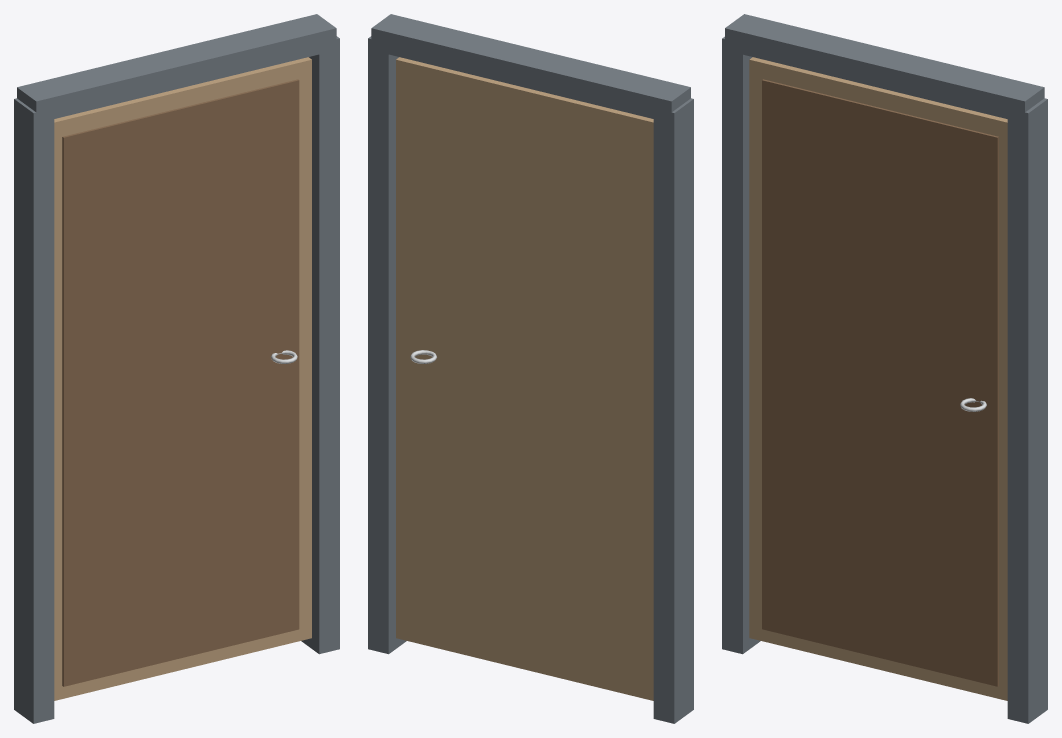
Rendered from door_restroom01.glb.
3 renders of one model, left to right at view 1: azimuth 30°, elevation 25°; view 2: azimuth 150°, elevation 25°; view 3: azimuth 330°, elevation 25°, orthographic.
Parts seen in each view (by area): view 1: leaf_trim, frame, leaf; view 2: leaf, frame; view 3: leaf_trim, frame, leaf.
Part boxes in pixels (<box>): leaf_trim: <box>62,79,299,686</box>; frame: <box>14,14,339,723</box>; leaf: <box>54,57,311,700</box>; leaf: <box>396,57,653,700</box>; frame: <box>368,14,693,723</box>; leaf_trim: <box>762,79,998,686</box>; frame: <box>722,14,1047,723</box>; leaf: <box>749,57,1007,700</box>.
Bounding box in the file's own units: 1.09 × 2.12 × 0.1979.
